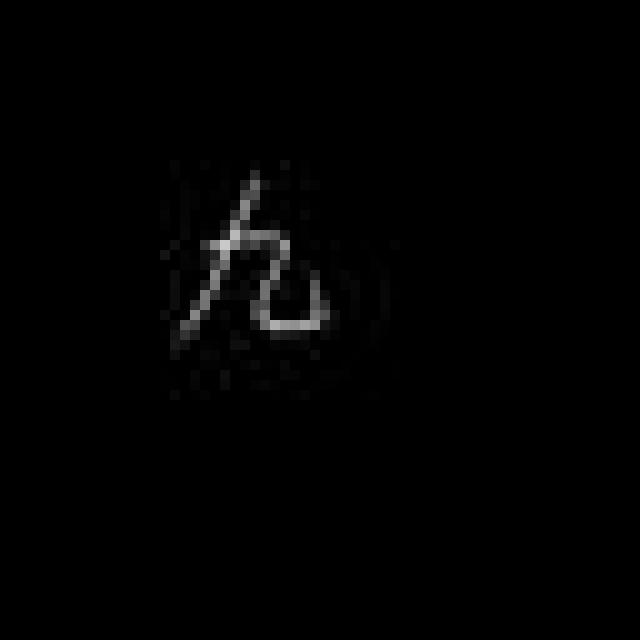9 -nine-: (168, 176, 332, 346)
